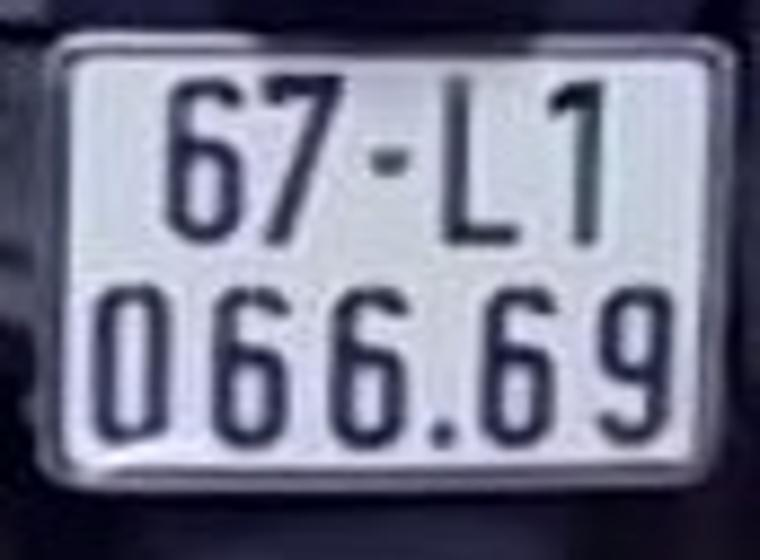-: (371, 155, 402, 176)
.: (430, 424, 459, 448)
0: (90, 291, 167, 440)
1: (550, 80, 597, 245)
6: (327, 288, 406, 448), (165, 73, 236, 243), (211, 289, 287, 444), (485, 287, 553, 446)
7: (260, 75, 339, 242)
9: (600, 288, 669, 444)
L: (442, 79, 514, 242)
